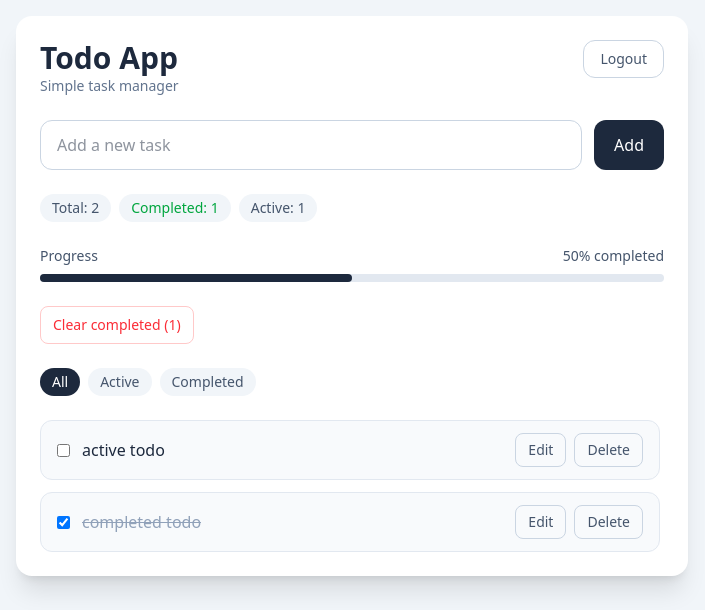
Test: Todoページ：フィルターボタンのテスト › 「All」をクリックすると、すべてのタスクが表示される
Note: 全てのタスクフィルターボタンの動作を確認するため、別のボタンをクリック
Click the button "Completed". click: (208,382)
box: [160,368,256,396]
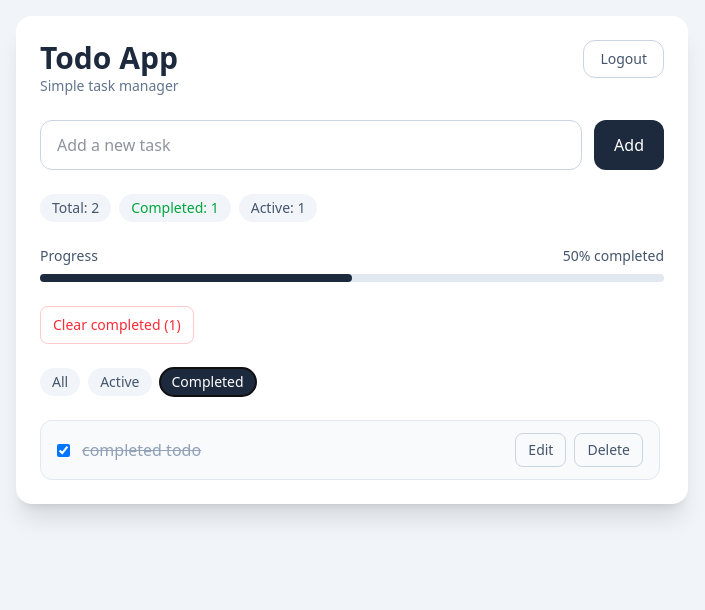
Note: 全てのタスクフィルターボタンクリック
Click the button "All". click: (60,382)
box: [40,368,80,396]
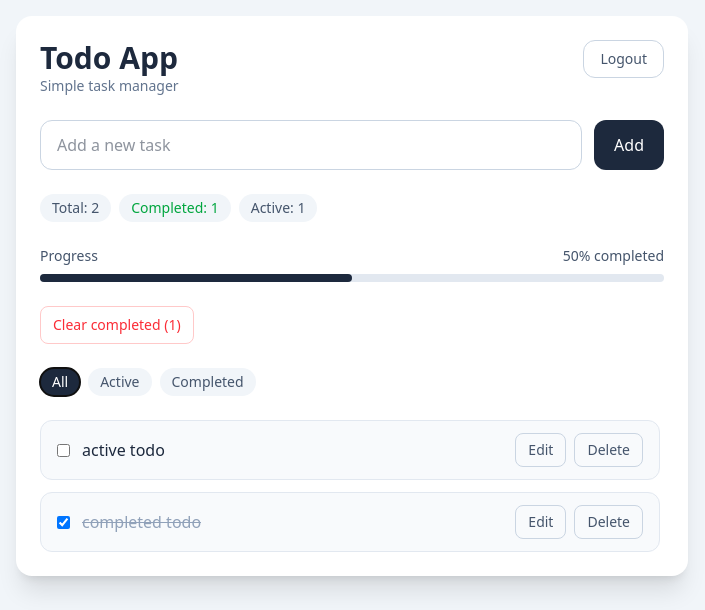
Expected: the text "completed todo" is shown, [82,510,201,534]
Now the text "active todo" is shown, box [82,438,165,462]
